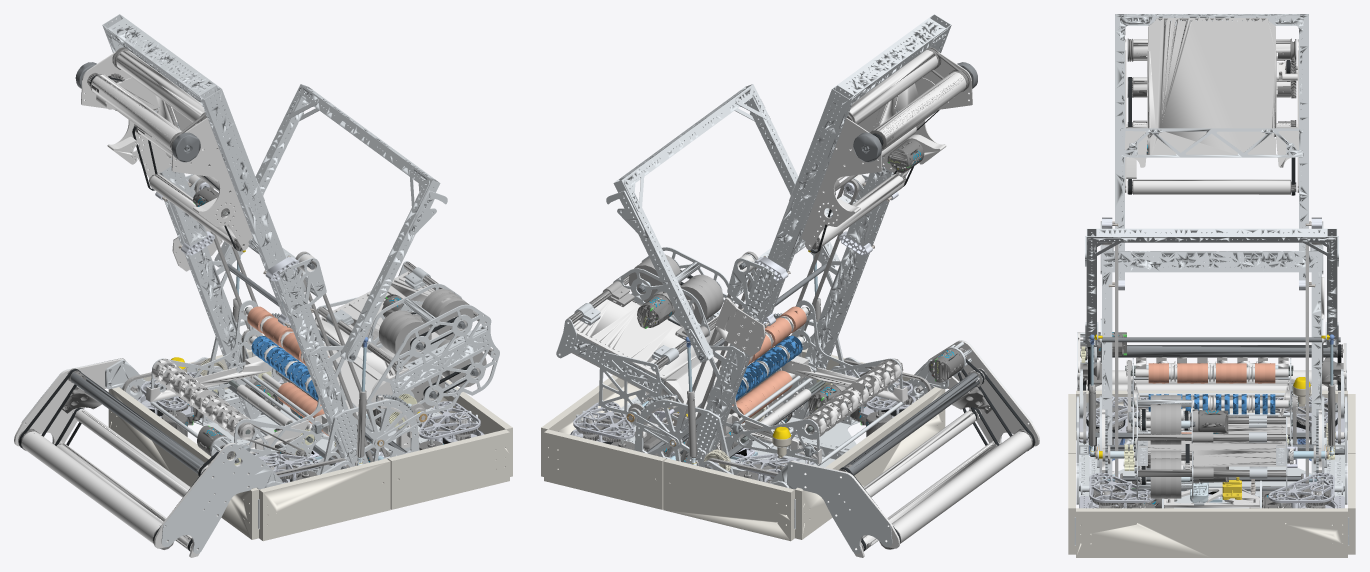
File: nik-1678.glb
The picture shows the model from 3 angles, left to right: view 1: azimuth 30°, elevation 25°; view 2: azimuth 150°, elevation 25°; view 3: azimuth 270°, elevation 25°; orthographic projection. The views are drawn at different scales.
Parts seen in each view (by area): view 1: frame, amp, intake, shooter, climber, climber-strut; view 2: frame, amp, intake, shooter, climber, climber-strut; view 3: frame, amp, shooter, climber, intake, climber-strut, climber-rod.
Part boxes in pixels (box(x1,y1,x2,y2)): frame: box(108, 174, 512, 541); amp: box(75, 14, 314, 327); intake: box(14, 358, 282, 557); shooter: box(272, 261, 499, 448); climber: box(212, 84, 447, 388); climber-strut: box(232, 298, 366, 465); frame: box(541, 174, 945, 541); amp: box(740, 14, 977, 327); intake: box(771, 340, 1039, 557); shooter: box(556, 247, 781, 448); climber: box(606, 84, 841, 388); climber-strut: box(687, 298, 821, 465); frame: box(1068, 217, 1355, 557); amp: box(1108, 14, 1315, 290); shooter: box(1095, 394, 1328, 499); climber: box(1083, 228, 1340, 362); intake: box(1077, 332, 1346, 418); climber-strut: box(1088, 383, 1335, 455); climber-rod: box(1089, 334, 1334, 385).
Size of the model in its own units: 1.02 by 1.19 by 0.7144.
